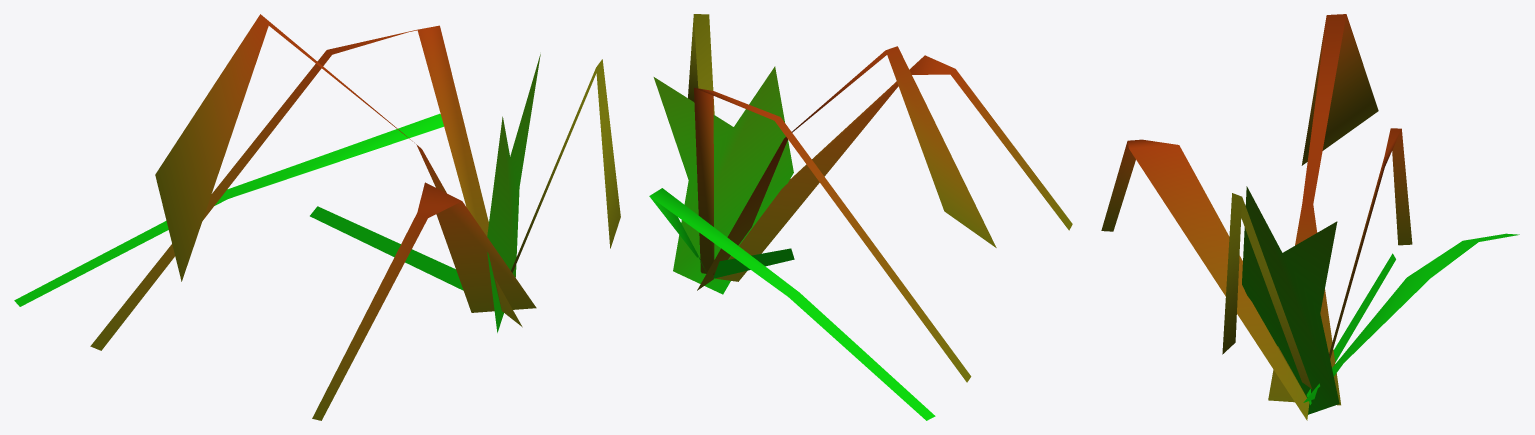
Rendered from scpho_Var4_LOD0.fbx.
The picture shows the model from 3 angles, left to right: view 1: azimuth 30°, elevation 25°; view 2: azimuth 150°, elevation 25°; view 3: azimuth 270°, elevation 25°; orthographic projection. The views are drawn at different scales.
Parts seen in each view (by area): view 1: _7d3f_Var4_LOD0; view 2: _7d3f_Var4_LOD0; view 3: _7d3f_Var4_LOD0.
Boxes of the visible parts, box(x1,y1,x2,y2) form: _7d3f_Var4_LOD0: box(14, 14, 620, 420); _7d3f_Var4_LOD0: box(649, 14, 1072, 420); _7d3f_Var4_LOD0: box(1101, 14, 1519, 420).
Size of the model in its own units: 11.25 by 8.53 by 10.43.
